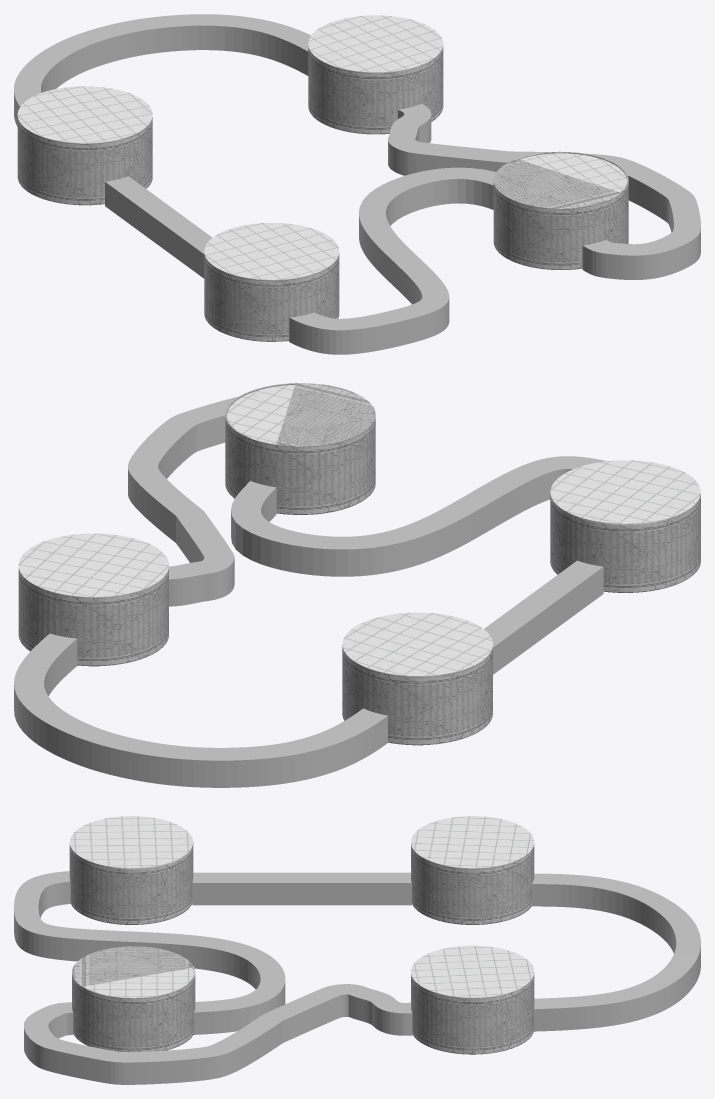
The model's file is Round Rooms.fbx.
3 views of the same model, one above another, from view 1: azimuth 30°, elevation 25°; view 2: azimuth 150°, elevation 25°; view 3: azimuth 270°, elevation 25° (orthographic). The views are drawn at different scales.
Parts seen in each view (by area): view 1: Tunnel 4, Tunnel 3, Room 4, Tunnel 2, Room 2, Room 3, Room 1, Roof Top 3, Roof Top 2, Roof Top 1, Tunnel 1, Roof Top 4; view 2: Tunnel 2, Tunnel 4, Room 4, Tunnel 3, Room 2, Room 1, Room 3, Roof Top 1, Roof Top 3, Roof Top 2, Tunnel 1, Roof Top 4; view 3: Tunnel 3, Tunnel 4, Tunnel 2, Room 4, Tunnel 1, Room 1, Room 3, Room 2, Roof Top 1, Roof Top 3, Roof Top 2, Roof Top 4.
Part boxes in pixels (x1,y1,x2,y2): Tunnel 4: (289,167,496,354); Tunnel 3: (388,103,700,279); Room 4: (493,151,628,269); Tunnel 2: (14,14,310,126); Room 2: (17,117,152,205); Room 3: (308,46,443,134); Room 1: (204,254,339,341); Roof Top 3: (308,15,443,73); Roof Top 2: (17,86,152,143); Roof Top 1: (204,223,339,280); Tunnel 1: (105,176,212,278); Roof Top 4: (520,153,626,192); Tunnel 2: (14,633,387,787); Tunnel 4: (231,456,606,576); Room 4: (225,383,375,514); Tunnel 3: (128,396,238,606); Room 2: (342,646,492,745); Room 1: (550,494,700,592); Room 3: (18,569,168,665); Roof Top 1: (550,460,700,525); Roof Top 3: (18,533,168,598); Roof Top 2: (342,612,492,677); Tunnel 1: (484,560,603,674); Roof Top 4: (227,385,294,443); Tunnel 3: (24,984,412,1084); Tunnel 4: (14,871,285,1034); Tunnel 2: (532,873,700,1031); Room 4: (72,946,195,1051); Tunnel 1: (192,872,411,905); Room 1: (69,843,193,924); Room 3: (411,975,534,1054); Room 2: (411,845,534,924); Roof Top 1: (69,816,193,869); Roof Top 3: (411,945,534,998); Roof Top 2: (411,816,534,869); Roof Top 4: (84,968,193,997).
Size of the model in its own units: 16166 by 2096 by 22255.
